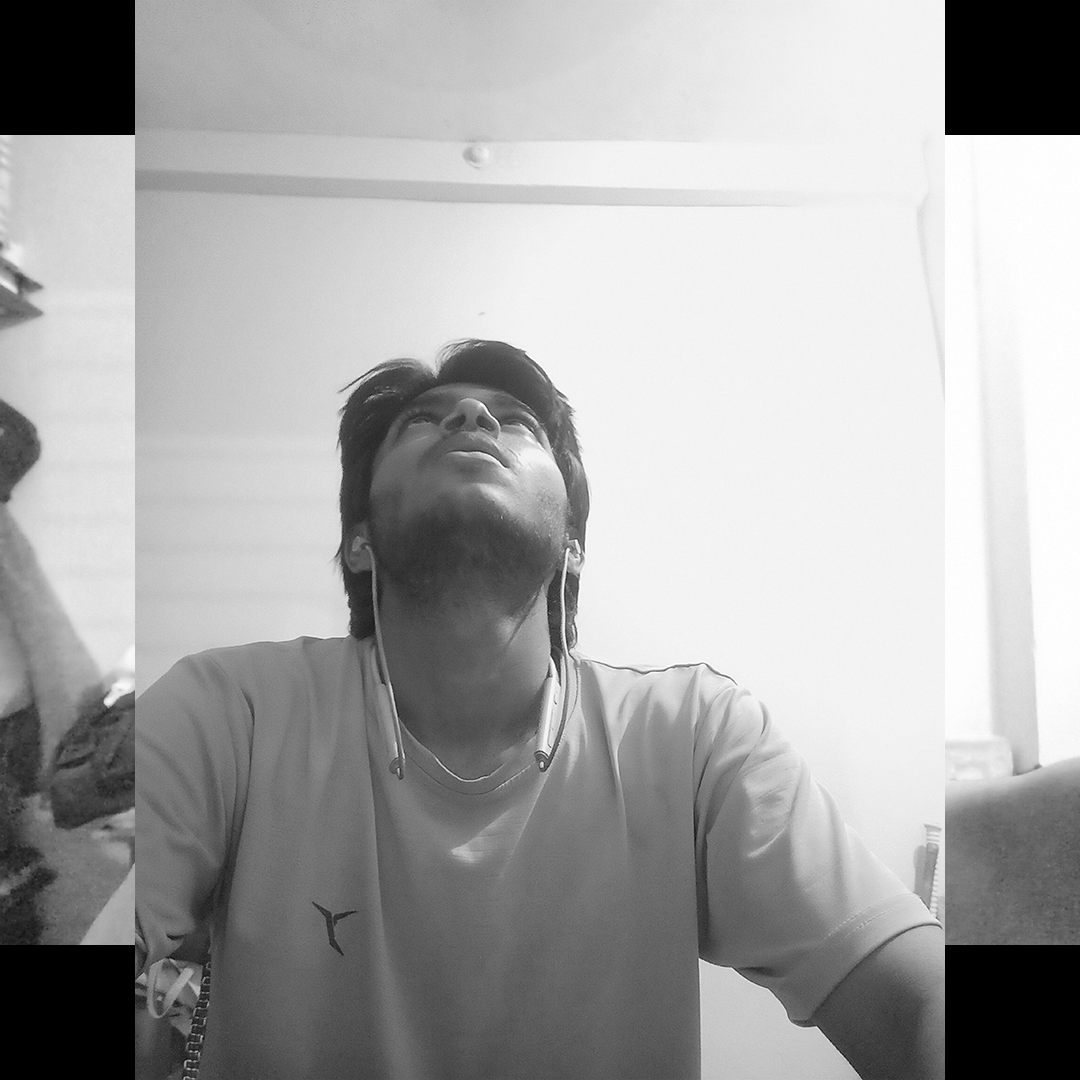distracted: (276, 251, 691, 879)
